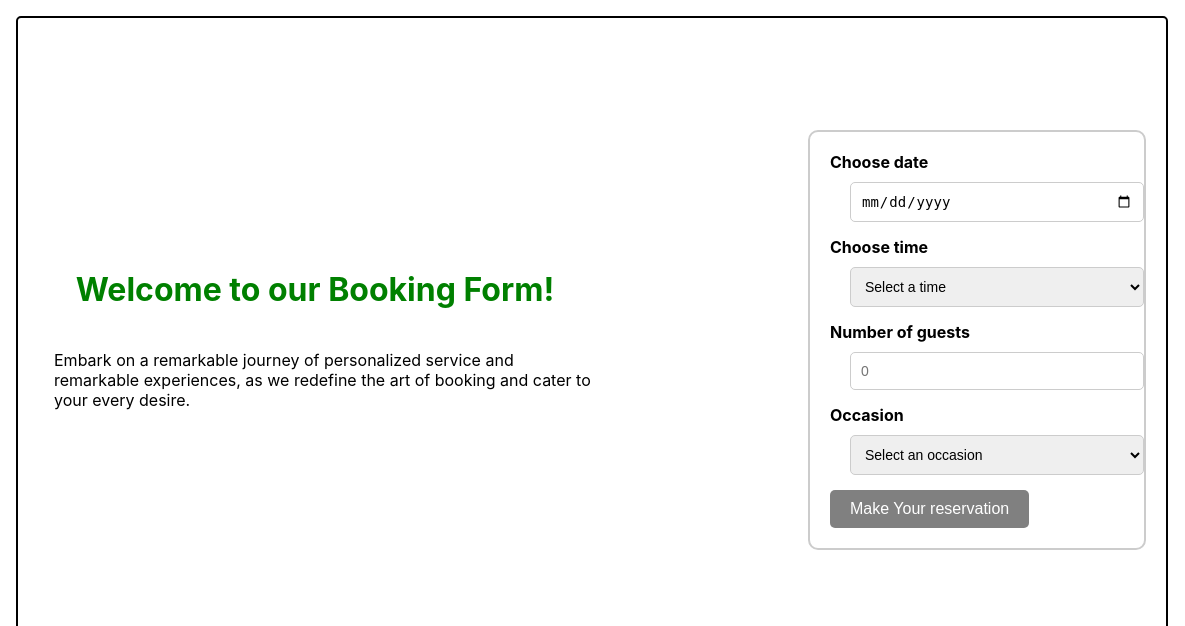
Test: BookingForm2 › validates form with all fields filled
Type "2023-06-20" into the date field labelled "Choose date". click: (997, 202)
box: [850, 182, 1144, 222]
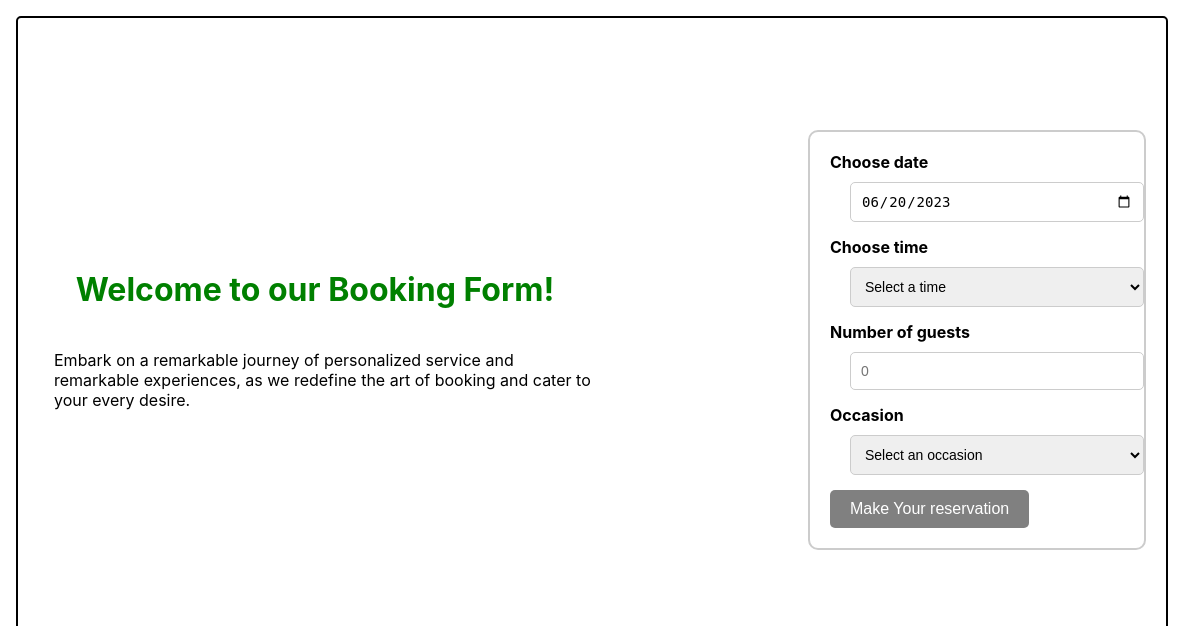
Select "17:00" in the dropdown labelled "Choose time". click: (997, 287)
box: [850, 267, 1144, 307]
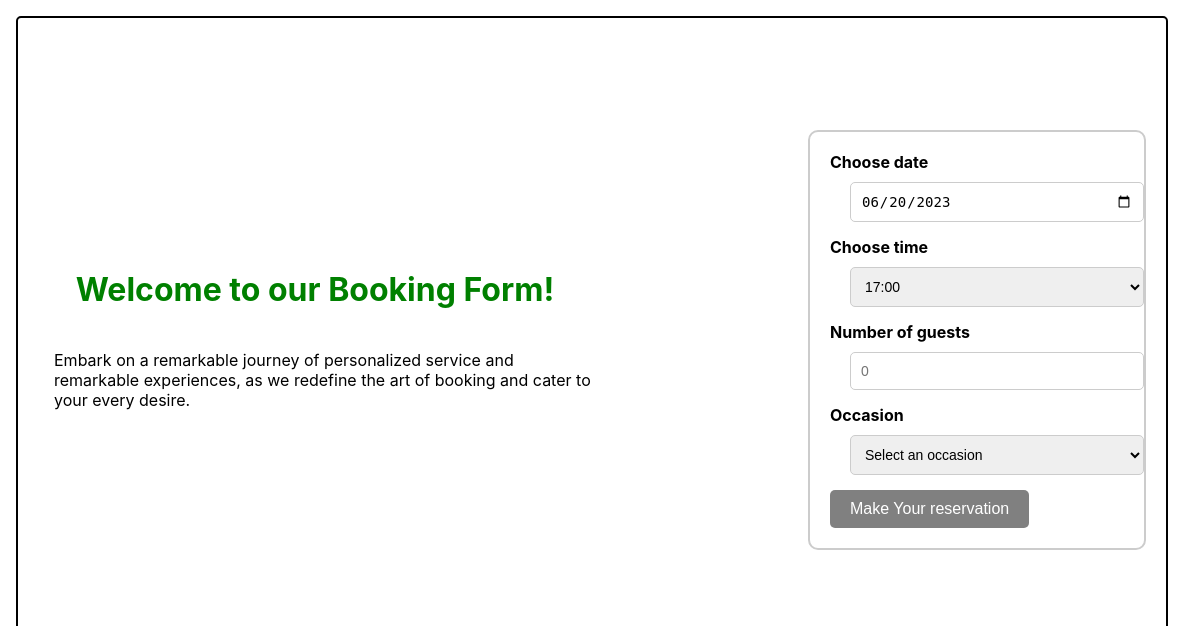
Type "4" into the number field labelled "Number of guests". click: (997, 371)
box: [850, 352, 1144, 390]
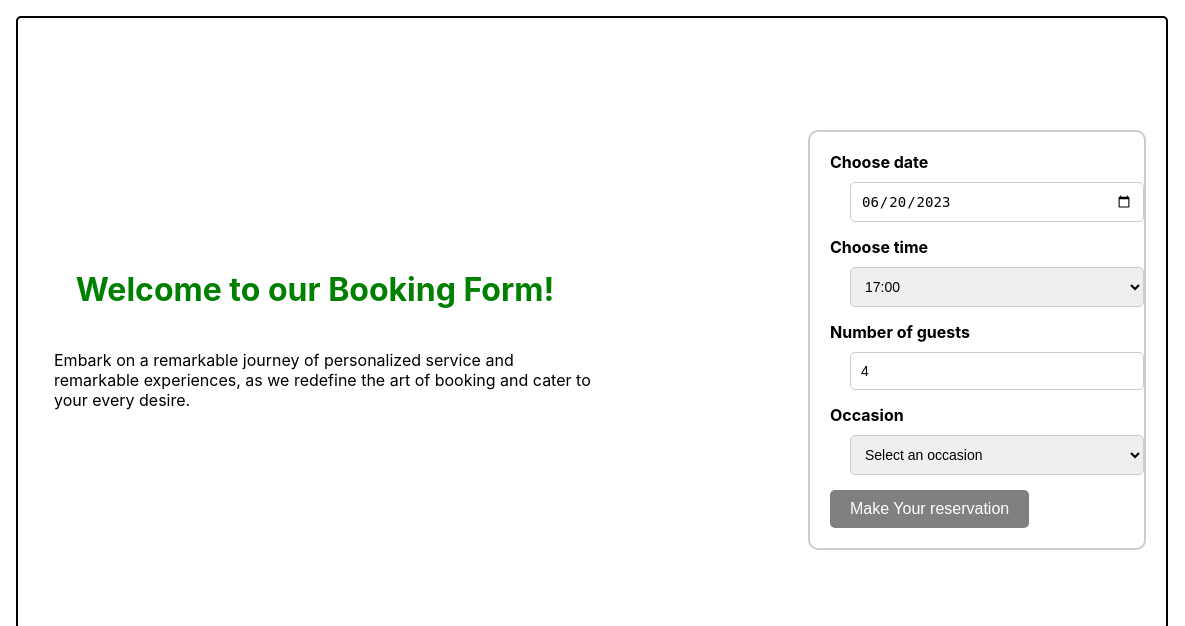
Select "Birthday" in the dropdown labelled "Occasion". click: (997, 455)
box: [850, 435, 1144, 475]
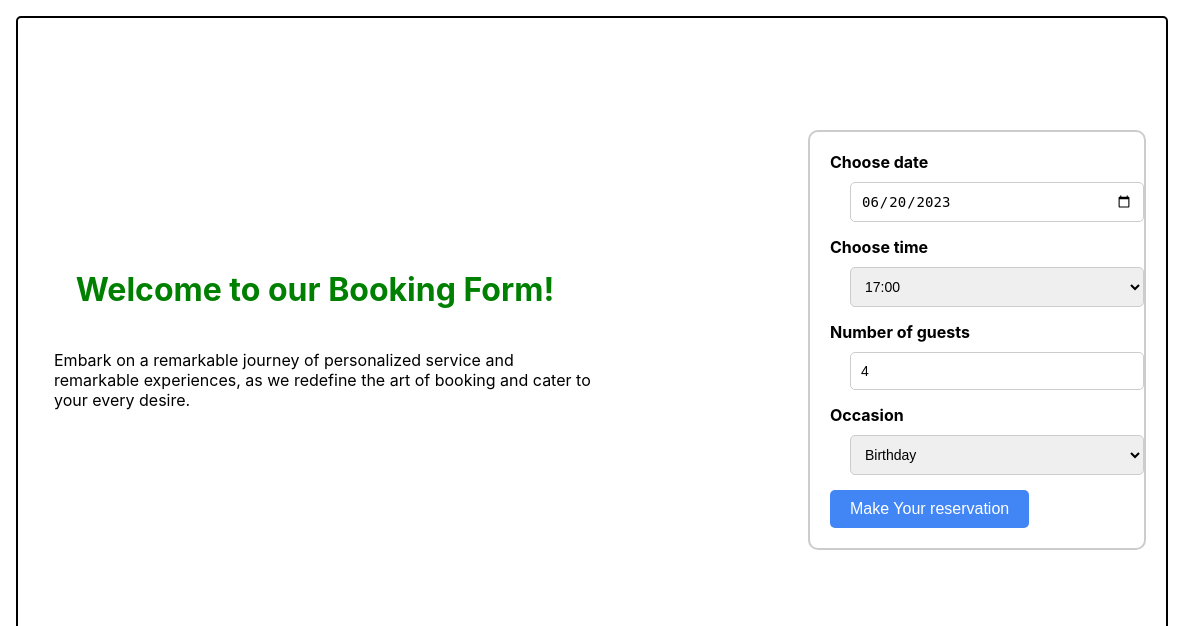
Now the button "Make Your reservation" is enabled, box [830, 490, 1029, 528]
